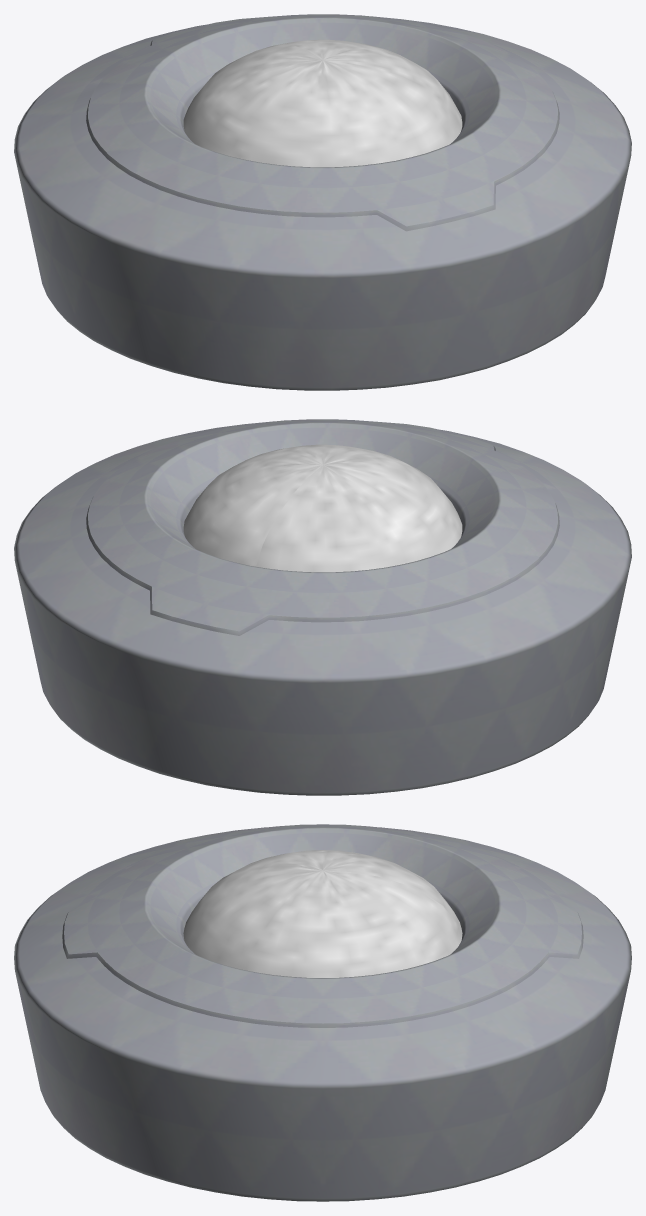
The model's file is pref_sm_beach_bk_winter_pointmol_topbuild01_lv2.fbx.
3 views of the same model, one above another, from view 1: azimuth 30°, elevation 25°; view 2: azimuth 150°, elevation 25°; view 3: azimuth 270°, elevation 25° (orthographic).
Parts seen in each view (by area): view 1: sm_beach_bk_winter_pointmol_topbuild01a_lv2, sm_beach_bk_winter_pointmol_topbuild01b_lv2; view 2: sm_beach_bk_winter_pointmol_topbuild01a_lv2, sm_beach_bk_winter_pointmol_topbuild01b_lv2; view 3: sm_beach_bk_winter_pointmol_topbuild01a_lv2, sm_beach_bk_winter_pointmol_topbuild01b_lv2.
Boxes of the visible parts, x1,y1,x2,y2 form: sm_beach_bk_winter_pointmol_topbuild01a_lv2: [14, 14, 631, 390]; sm_beach_bk_winter_pointmol_topbuild01b_lv2: [183, 39, 462, 167]; sm_beach_bk_winter_pointmol_topbuild01a_lv2: [14, 419, 631, 795]; sm_beach_bk_winter_pointmol_topbuild01b_lv2: [183, 444, 462, 572]; sm_beach_bk_winter_pointmol_topbuild01a_lv2: [14, 824, 631, 1201]; sm_beach_bk_winter_pointmol_topbuild01b_lv2: [183, 850, 462, 977].
Bounding box in the file's own units: 27.09 × 10.25 × 27.05.
